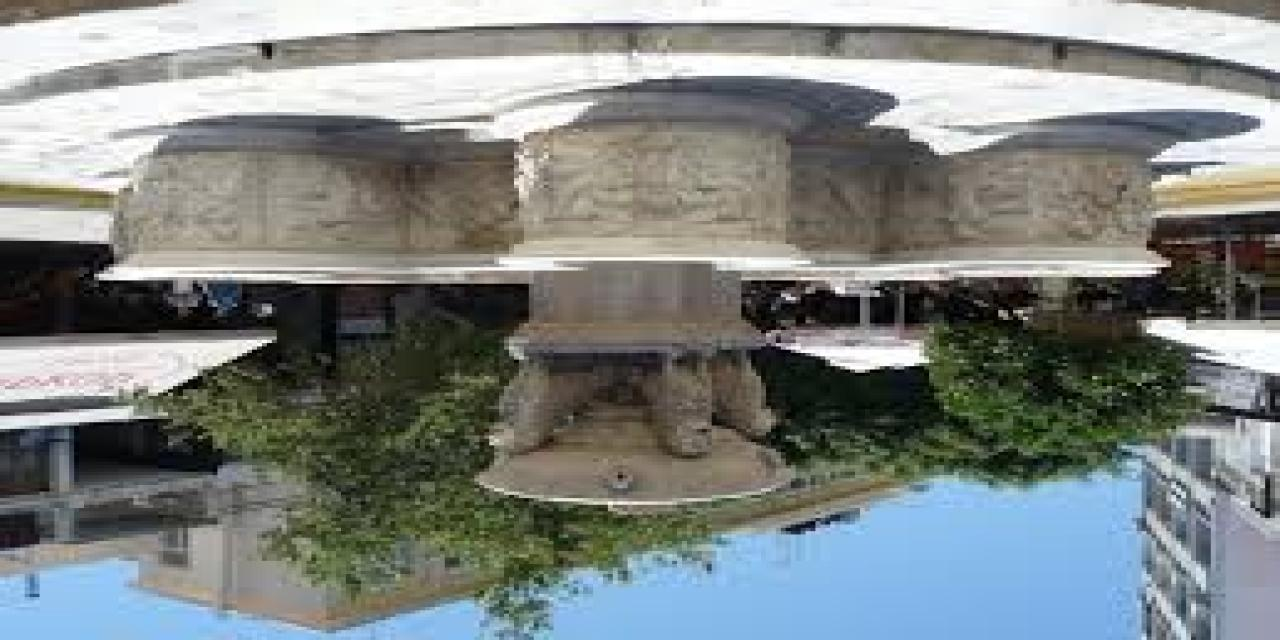Liontaria: (114, 100, 1161, 512)
